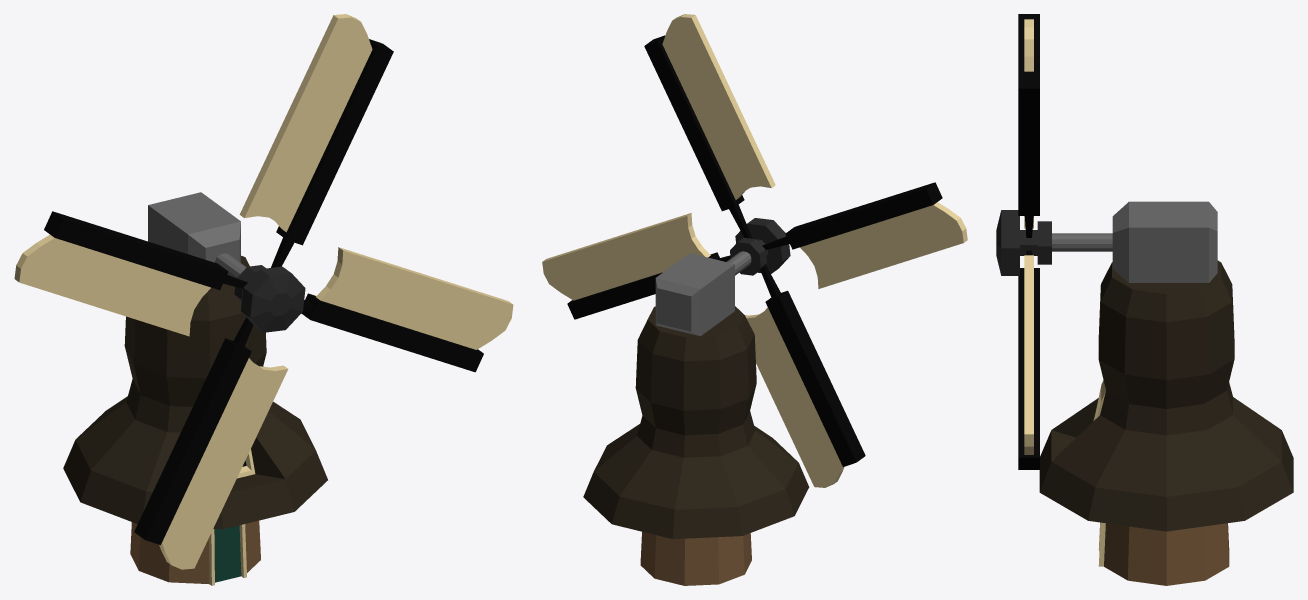
File: Moinho.fbx
3 views of the same model, side by side, from view 1: azimuth 30°, elevation 25°; view 2: azimuth 150°, elevation 25°; view 3: azimuth 270°, elevation 25° (orthographic). The views are drawn at different scales.
Visible parts, largest first — view 1: Windmill; view 2: Windmill; view 3: Windmill.
Part boxes in pixels (x1=…): Windmill: x1=14, y1=14, x2=513, y2=585; Windmill: x1=542, y1=14, x2=967, y2=585; Windmill: x1=996, y1=14, x2=1293, y2=585.
Size of the model in its own units: 1559 by 1727 by 810.
